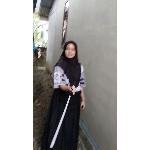Pedang: (48, 81, 80, 150)
